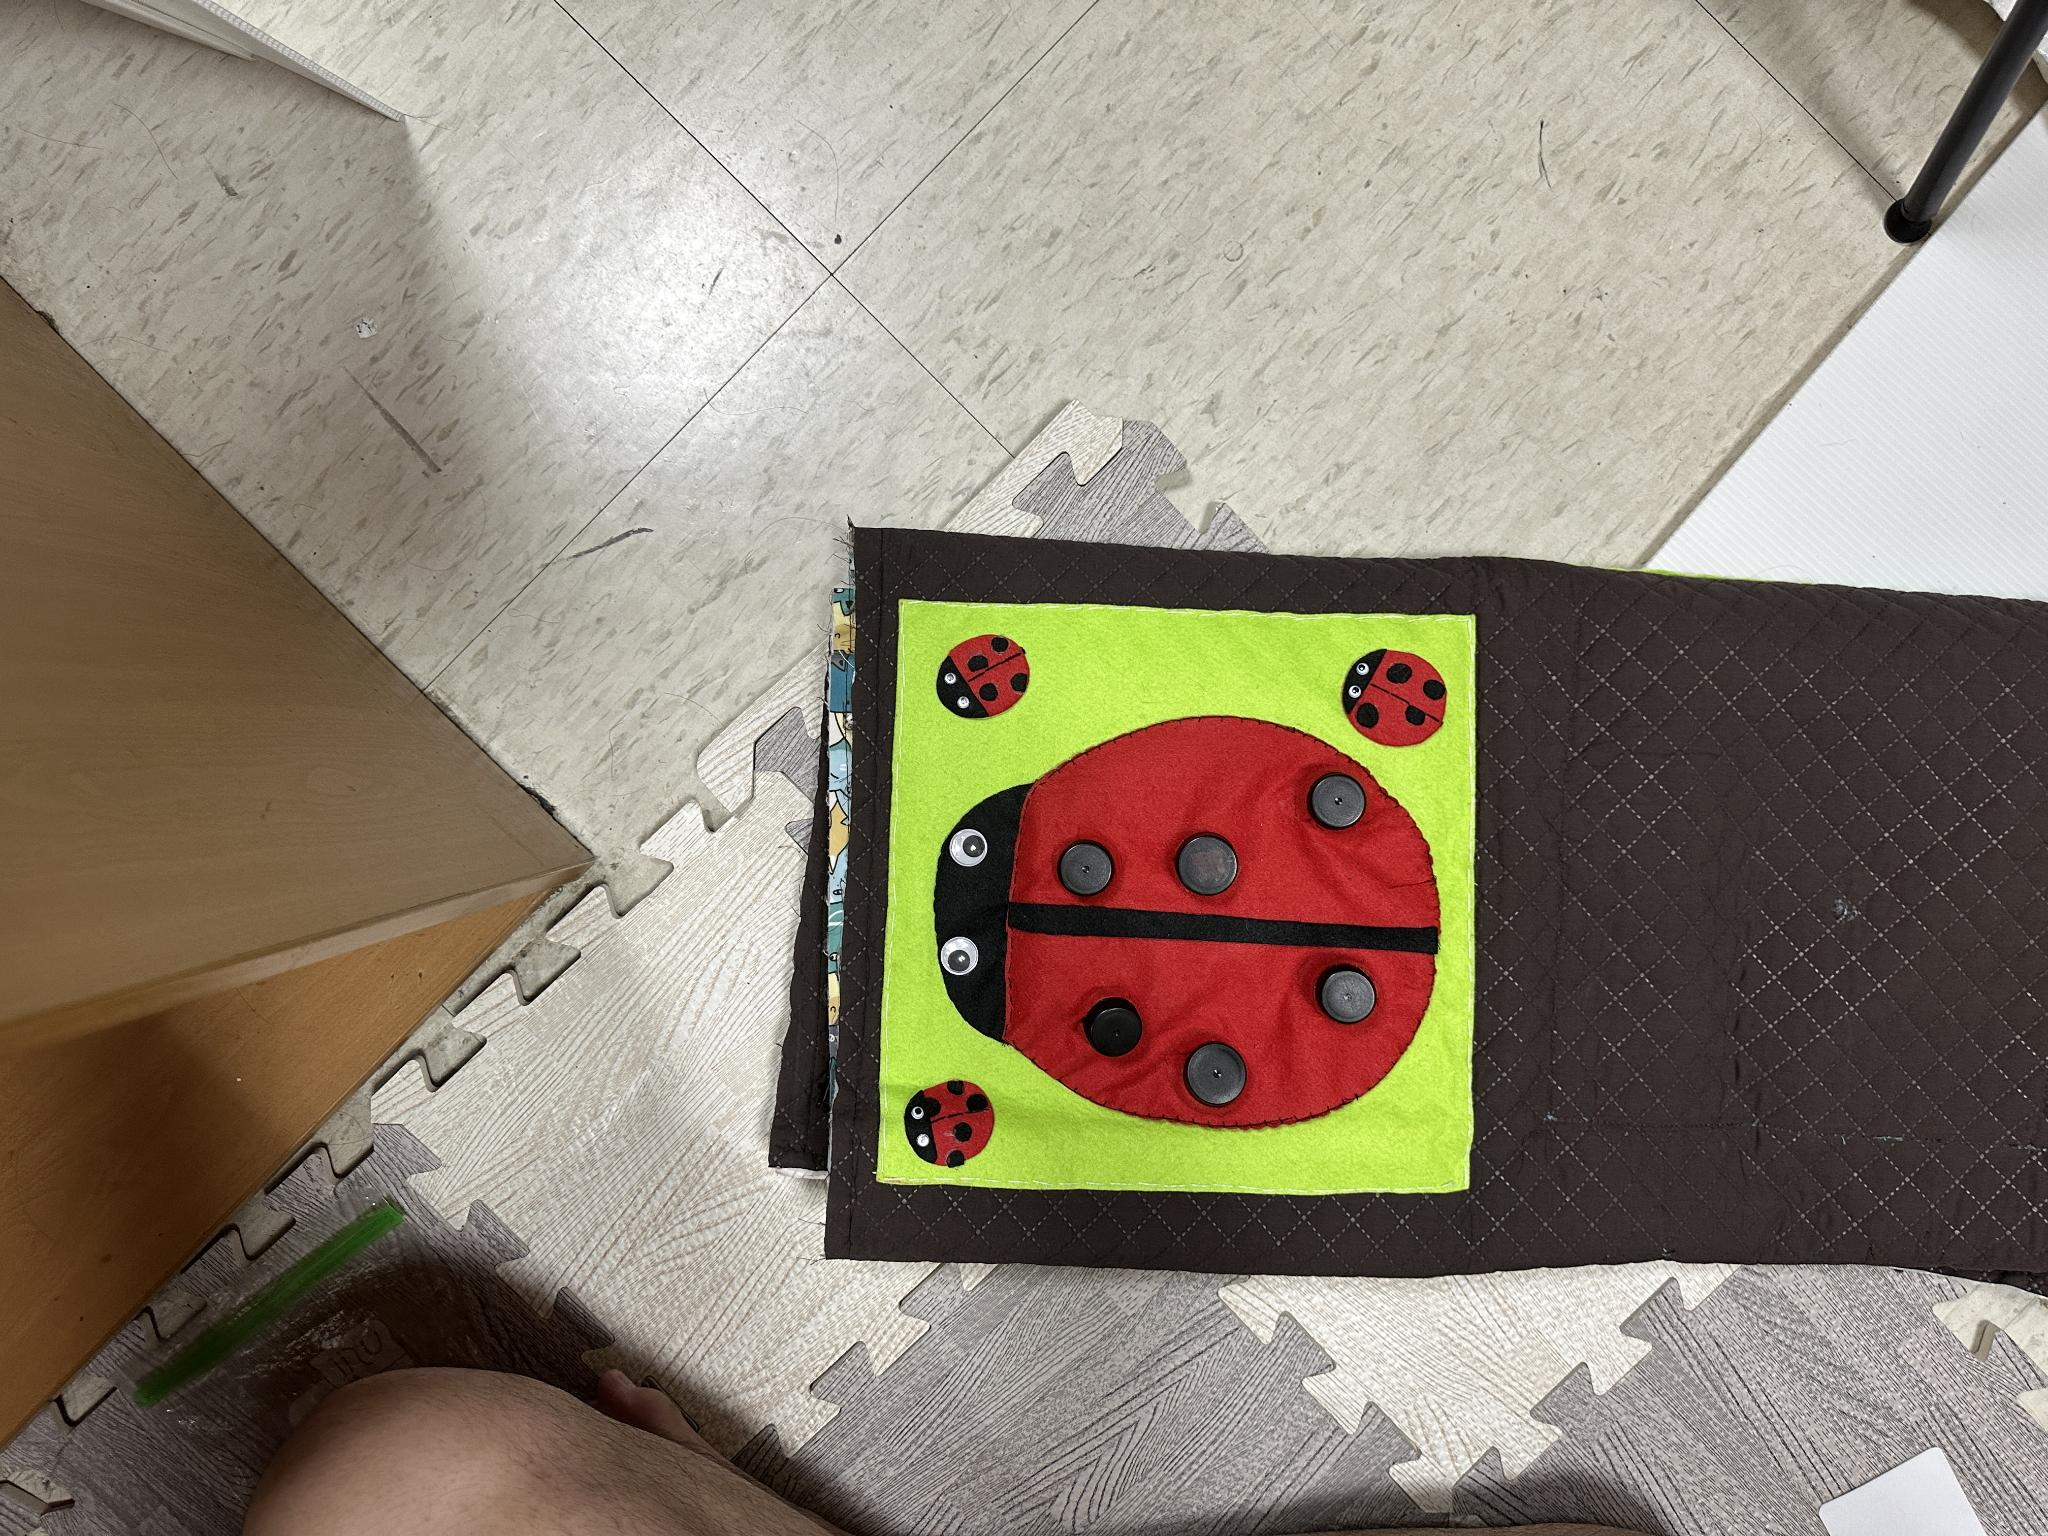cap_ok: (1164, 1033, 1268, 1117), (1163, 823, 1250, 902), (1040, 828, 1129, 905), (1072, 986, 1156, 1065), (1308, 955, 1385, 1029), (1301, 766, 1379, 836)
